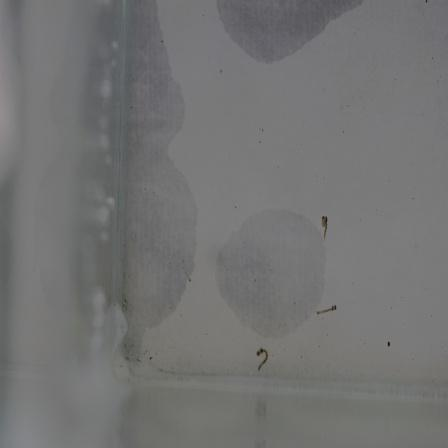Jentik-Nyamuk: (313, 298, 345, 320), (252, 344, 272, 376), (319, 212, 331, 243)
